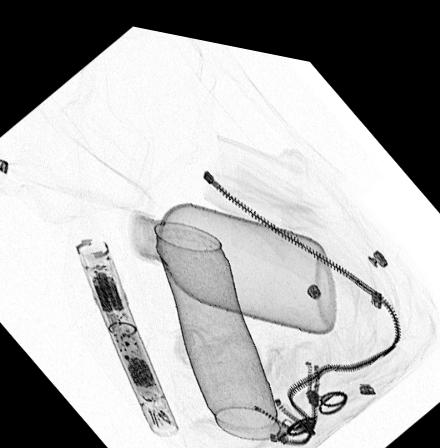Baton: (73, 232, 178, 429)
